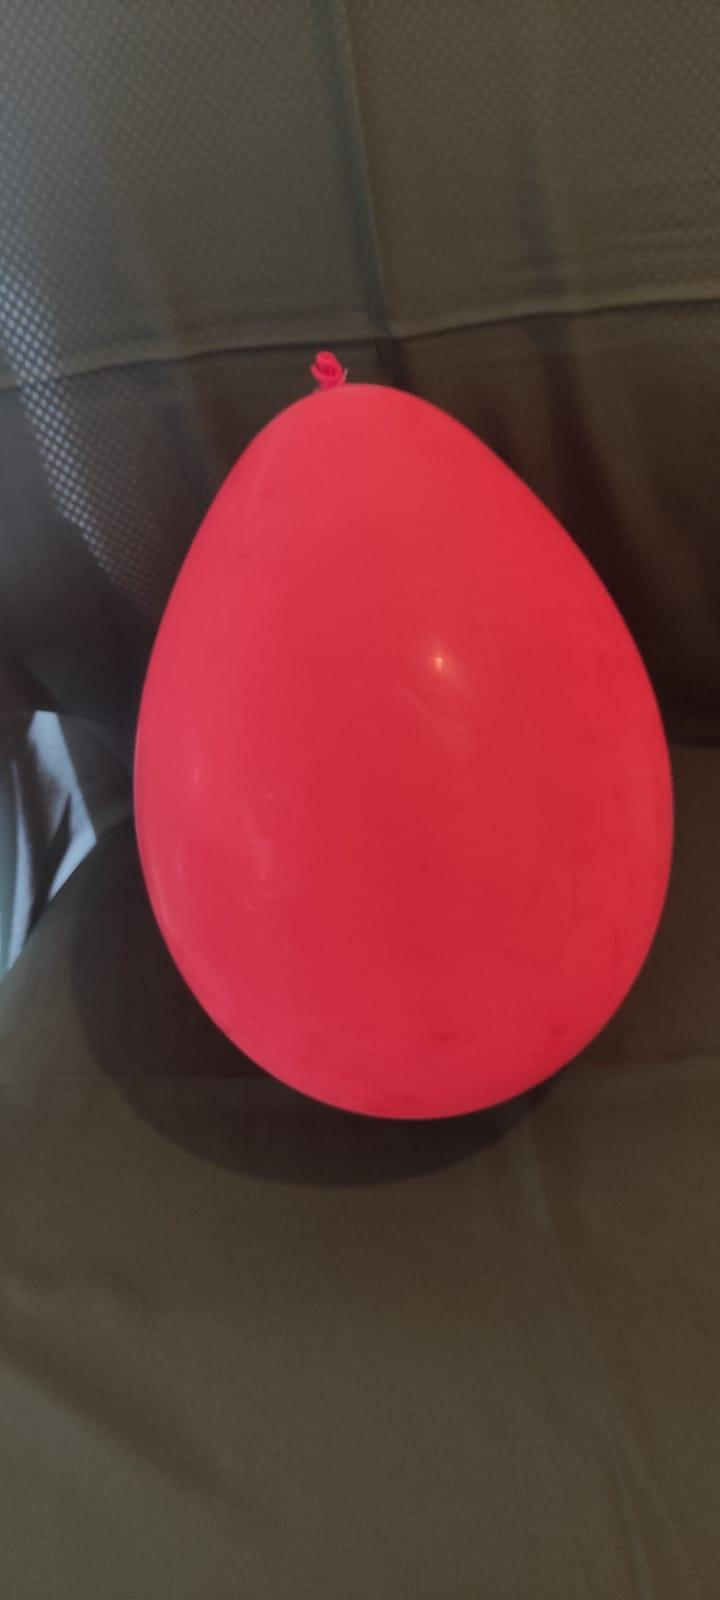red: (131, 351, 684, 1128)
